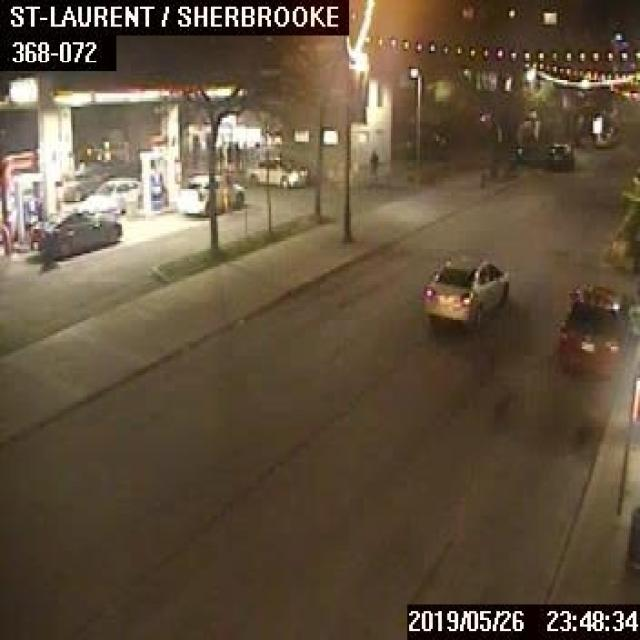pedestrian: (369, 146, 377, 178)
vehicle: (553, 284, 638, 384), (420, 251, 509, 325), (29, 209, 120, 255), (180, 170, 245, 217), (248, 154, 306, 188), (86, 174, 142, 209), (58, 167, 106, 199), (542, 140, 573, 171)
